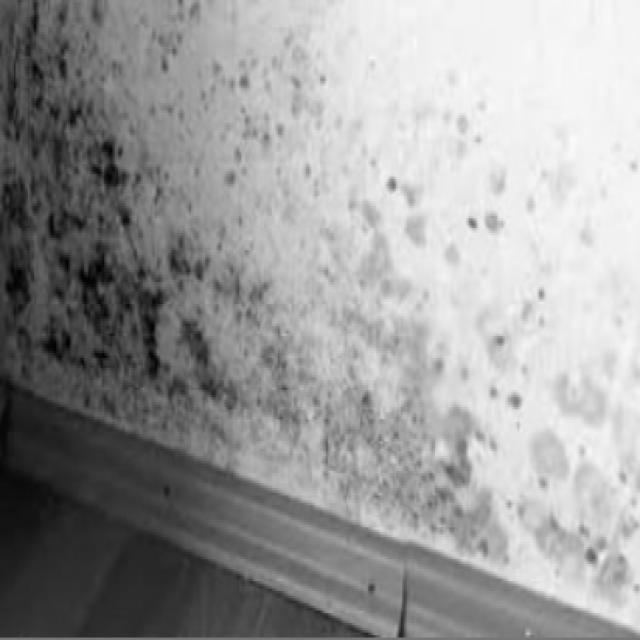stain marks: (401, 100, 638, 560), (0, 0, 222, 387), (225, 52, 398, 476)
